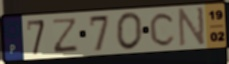7: (88, 14, 112, 53), (26, 19, 47, 57)
C: (148, 11, 177, 48)
N: (178, 6, 206, 49)
O: (114, 11, 144, 51)
Z: (52, 17, 79, 55)
